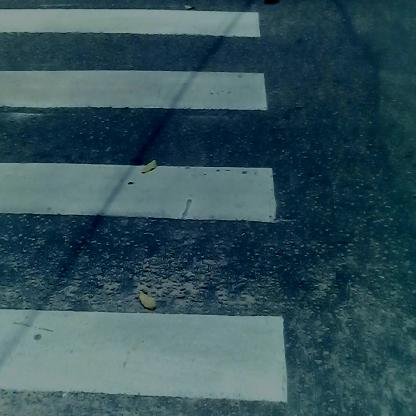crosswalk: (3, 14, 290, 416)
